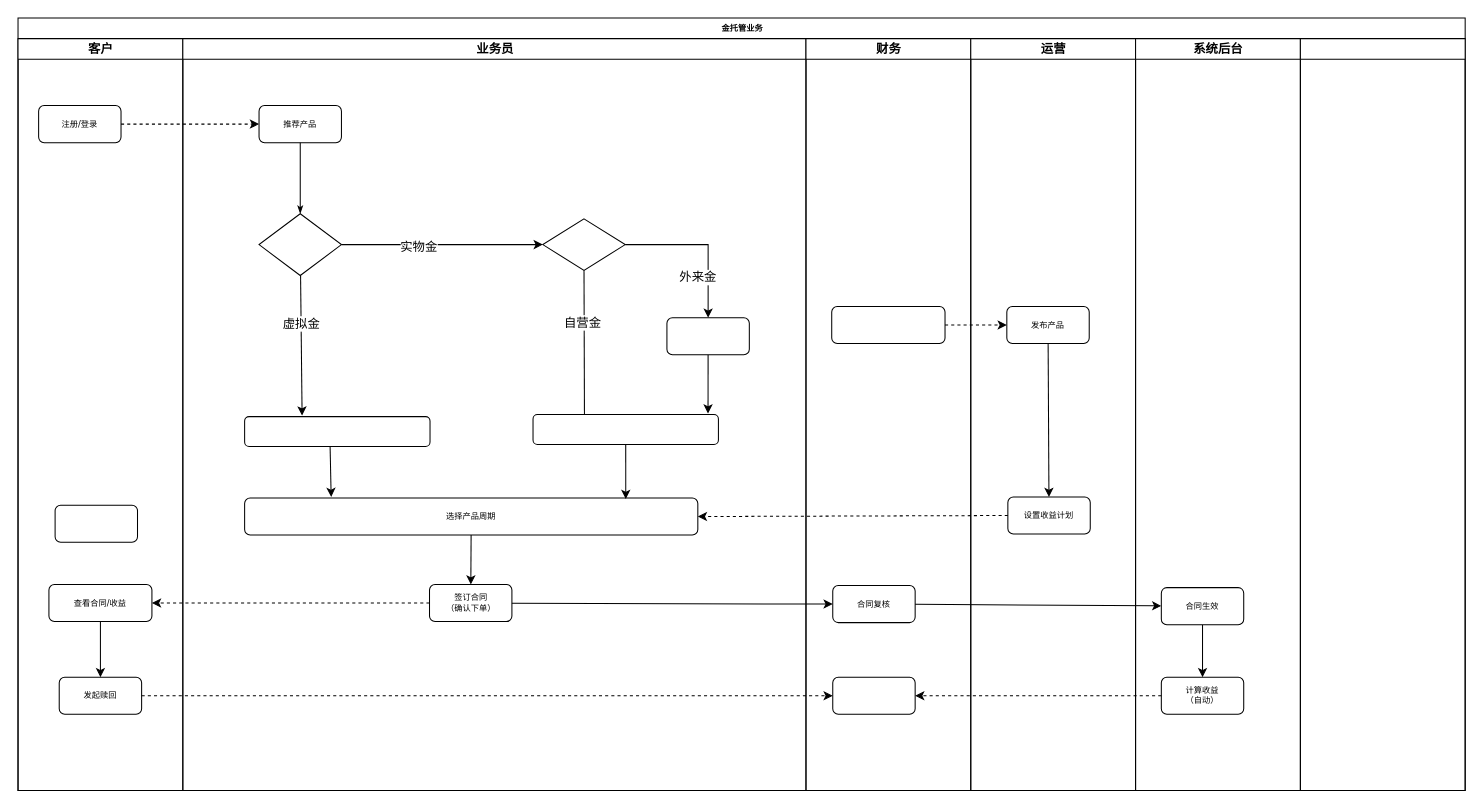
Image size: 1483x809. Some labels were removed from this diagram. The shapes that lost their labels are listed below. From the top down, each one's box as (x1, y1, x2, y2) in pixels, then its label:
(258, 213, 341, 276): 类型
(542, 218, 625, 270): 来源
(666, 317, 749, 355): 检测
(831, 305, 945, 344): 设定金价 （每天/不定期）
(244, 416, 430, 447): 认购数量
(532, 414, 718, 444): 计算重量
(54, 504, 138, 542): 完善资料 （实名制）
(832, 676, 915, 714): 确认 付款/出金
